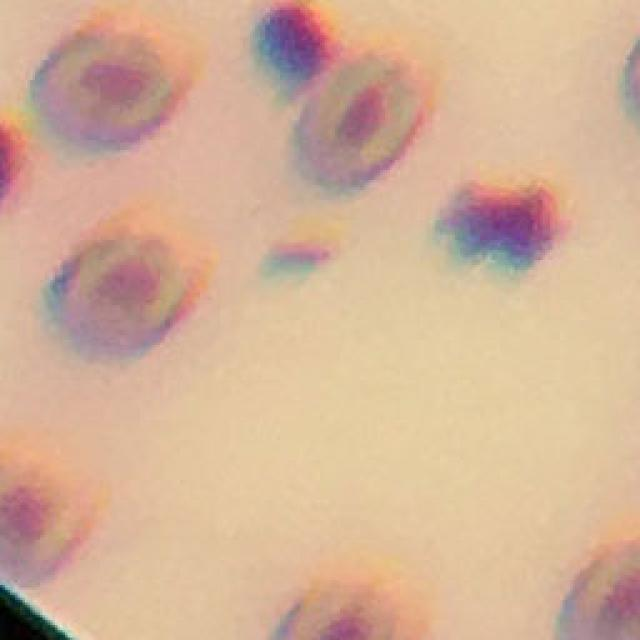RBC: (42, 210, 210, 359), (32, 25, 178, 148), (0, 429, 106, 591), (298, 55, 425, 188), (555, 538, 640, 640), (270, 576, 403, 640)
WBC: (440, 182, 560, 270), (255, 2, 340, 98), (0, 114, 30, 213)
